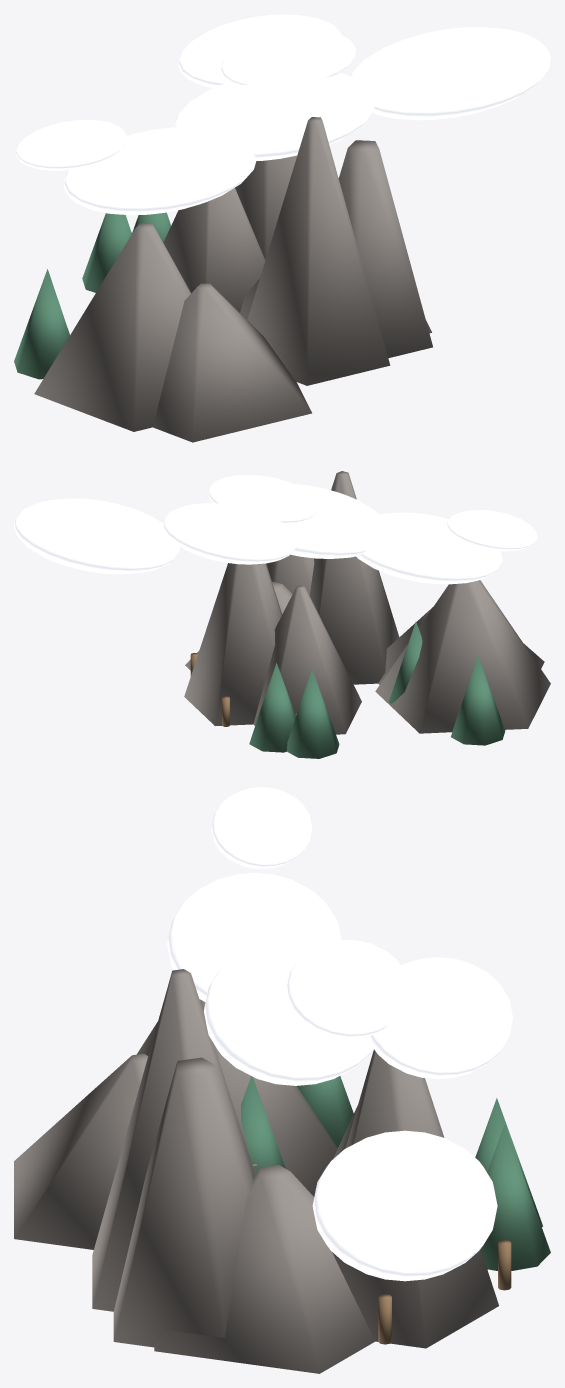
Rendered from m3d_mountain.glb.
The picture shows the model from 3 angles, top to bottom: view 1: azimuth 30°, elevation 25°; view 2: azimuth 150°, elevation 25°; view 3: azimuth 270°, elevation 25°; orthographic projection. The views are drawn at different scales.
Parts seen in each view (by area): view 1: peak_5, peak_3, peak_4, cloud_0, cloud_2, cloud_5, peak_6, peak_1, cloud_4, cloud_1, cloud_3, pine_3 (+3 smaller); view 2: peak_3, peak_0, cloud_0, peak_5, peak_1, cloud_2, cloud_3, cloud_5, cloud_4, cloud_1, pine_3, pine_1 (+5 smaller); view 3: peak_6, cloud_0, peak_2, peak_4, cloud_5, peak_0, peak_5, cloud_3, cloud_2, cloud_4, cloud_1, peak_3 (+4 smaller).
Boxes of the visible parts, x1=… form: peak_5: x1=247, y1=117, x2=390, y2=385; peak_3: x1=34, y1=222, x2=191, y2=431; peak_4: x1=153, y1=283, x2=311, y2=442; cloud_0: x1=350, y1=27, x2=550, y2=120; cloud_2: x1=63, y1=127, x2=256, y2=215; cloud_5: x1=174, y1=72, x2=375, y2=161; peak_6: x1=338, y1=140, x2=432, y2=358; peak_1: x1=163, y1=188, x2=265, y2=312; cloud_4: x1=220, y1=29, x2=355, y2=84; cloud_1: x1=15, y1=119, x2=126, y2=170; cloud_3: x1=178, y1=14, x2=342, y2=87; pine_3: x1=14, y1=269, x2=69, y2=379; peak_3: x1=375, y1=580, x2=550, y2=733; peak_0: x1=184, y1=563, x2=282, y2=725; cloud_0: x1=14, y1=498, x2=179, y2=574; peak_5: x1=309, y1=471, x2=399, y2=684; peak_1: x1=253, y1=585, x2=361, y2=734; cloud_2: x1=356, y1=512, x2=502, y2=584; cloud_3: x1=162, y1=503, x2=297, y2=564; cloud_5: x1=286, y1=484, x2=381, y2=558; cloud_4: x1=208, y1=474, x2=317, y2=524; cloud_1: x1=447, y1=510, x2=537, y2=551; pine_3: x1=451, y1=656, x2=505, y2=745; pine_1: x1=287, y1=669, x2=339, y2=758; peak_6: x1=113, y1=1057, x2=253, y2=1347; cloud_0: x1=312, y1=1130, x2=497, y2=1281; peak_2: x1=154, y1=1165, x2=375, y2=1373; peak_4: x1=14, y1=1053, x2=148, y2=1249; cloud_5: x1=203, y1=936, x2=373, y2=1085; peak_0: x1=332, y1=1049, x2=498, y2=1348; peak_5: x1=92, y1=969, x2=254, y2=1311; cloud_3: x1=367, y1=957, x2=512, y2=1079; cloud_2: x1=167, y1=872, x2=341, y2=1001; cloud_4: x1=286, y1=939, x2=407, y2=1039; cloud_1: x1=211, y1=787, x2=312, y2=869; peak_3: x1=137, y1=999, x2=337, y2=1196.
Size of what is drawn, in the model's own units: 28.9 by 12.25 by 17.38.
